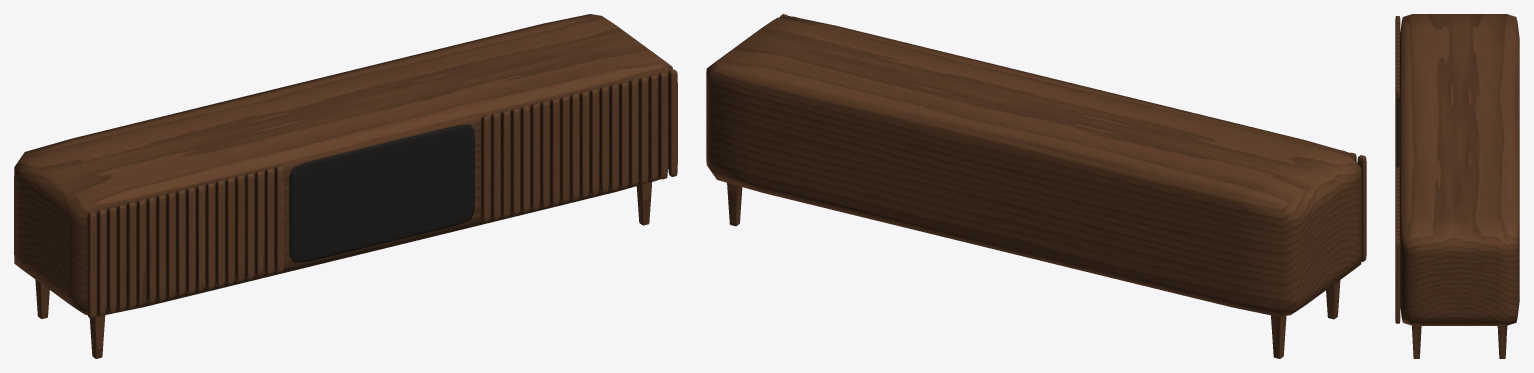
The model's file is walnut-long.glb.
The picture shows the model from 3 angles, left to right: view 1: azimuth 30°, elevation 25°; view 2: azimuth 150°, elevation 25°; view 3: azimuth 270°, elevation 25°; orthographic projection. The views are drawn at different scales.
Parts seen in each view (by area): view 1: wood_x, wood_v, shelf_inner; view 2: wood_x, wood_v; view 3: wood_x, wood_v, shelf_inner.
Part boxes in pixels (x1,y1,x2,y2): wood_x: (14,14,672,316); wood_v: (35,69,677,358); shelf_inner: (289,124,474,262); wood_x: (706,16,1361,316); wood_v: (727,14,1366,358); wood_x: (1399,14,1519,325); wood_v: (1395,16,1507,358); shelf_inner: (1397,98,1399,167).
Bounding box in the file's own units: 1.9 × 0.5 × 0.435.
3 materials, 2 textured.
